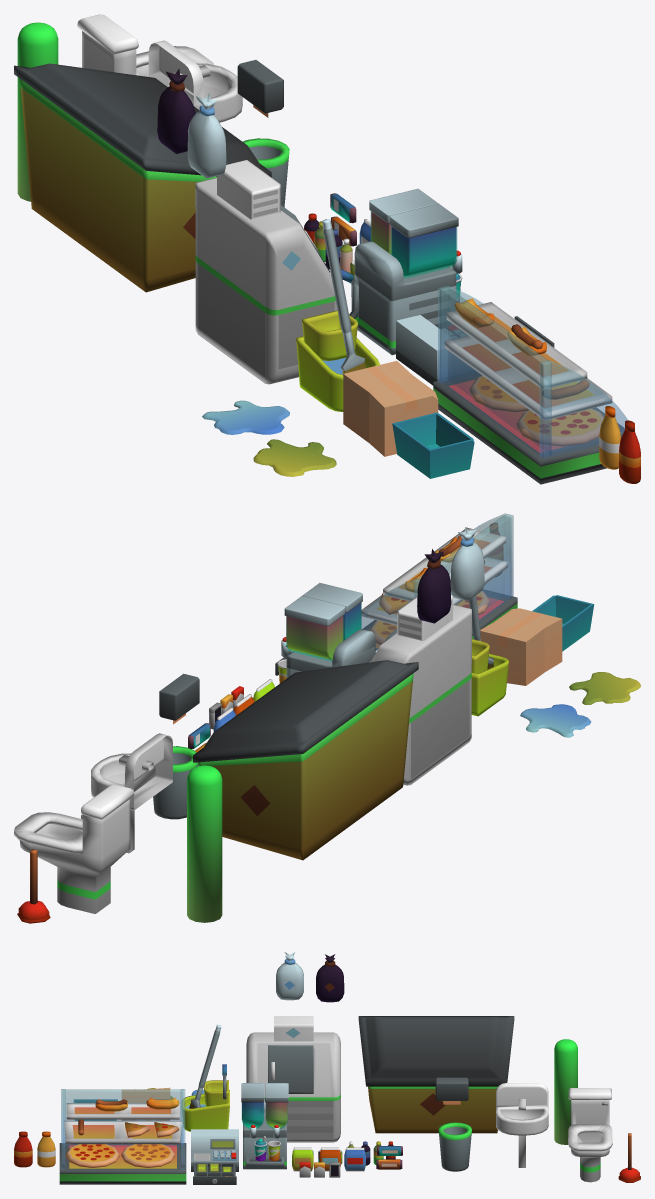
Rendered from PropKitMain.fbx.
3 views of the same model, one above another, from view 1: azimuth 30°, elevation 25°; view 2: azimuth 150°, elevation 25°; view 3: azimuth 270°, elevation 25° (orthographic). The views are drawn at different scales.
Visible parts, largest first — view 1: IceBox, hotFoodDisplay, Dumpster, Machine.002, DumpsterLid, box, Mop Bucket, basket, sink, Toilet, register, OutsidePole (+14 smaller); view 2: Dumpster, DumpsterLid, IceBox, Toilet, Machine.002, hotFoodDisplay, OutsidePole, box, sink, Mop Bucket, GarbageBag, IceBag (+7 smaller); view 3: DumpsterLid, hotFoodDisplay, IceBox, Dumpster, Machine.002, Toilet, sink, icebox_Door, OutsidePole, Mop Bucket, register, trashbin (+17 smaller).
Part boxes in pixels (<box>): IceBox: <box>195,160,337,384</box>; hotFoodDisplay: <box>433,285,637,484</box>; Dumpster: <box>19,79,216,292</box>; Machine.002: <box>354,188,462,355</box>; DumpsterLid: <box>14,63,271,177</box>; box: <box>343,361,438,456</box>; Mop Bucket: <box>296,269,379,411</box>; basket: <box>392,412,474,478</box>; sink: <box>148,40,242,122</box>; Toilet: <box>77,14,213,76</box>; register: <box>396,315,475,385</box>; OutsidePole: <box>17,22,58,201</box>; Dumpster: <box>198,673,413,860</box>; DumpsterLid: <box>193,660,418,762</box>; IceBox: <box>370,595,471,785</box>; Toilet: <box>14,784,134,913</box>; Machine.002: <box>281,583,375,678</box>; hotFoodDisplay: <box>361,513,517,650</box>; OutsidePole: <box>187,765,222,922</box>; box: <box>480,608,562,685</box>; sink: <box>91,733,172,853</box>; Mop Bucket: <box>471,639,508,716</box>; GarbageBag: <box>417,549,451,623</box>; IceBag: <box>450,527,484,601</box>; DumpsterLid: <box>358,1016,514,1086</box>; hotFoodDisplay: <box>59,1089,186,1184</box>; IceBox: <box>246,1016,340,1142</box>; Dumpster: <box>368,1086,497,1133</box>; Machine.002: <box>241,1083,288,1169</box>; Toilet: <box>568,1088,612,1182</box>; sink: <box>496,1083,548,1167</box>; icebox_Door: <box>268,1045,313,1093</box>; OutsidePole: <box>554,1039,577,1144</box>; Mop Bucket: <box>181,1064,229,1131</box>; register: <box>191,1129,238,1171</box>; trashbin: <box>438,1122,471,1171</box>.
Bounding box in the file's own units: 16.84 × 13.68 × 46.41.
